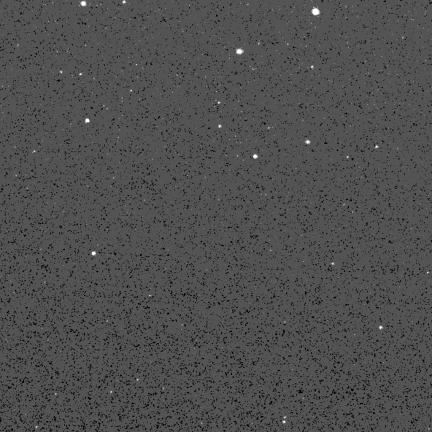blob: (312, 8, 320, 16), (236, 49, 243, 54), (81, 1, 86, 6), (92, 251, 96, 256), (253, 154, 257, 158), (306, 140, 310, 144), (379, 326, 383, 329), (86, 119, 89, 123), (375, 145, 378, 148), (219, 125, 222, 128)
